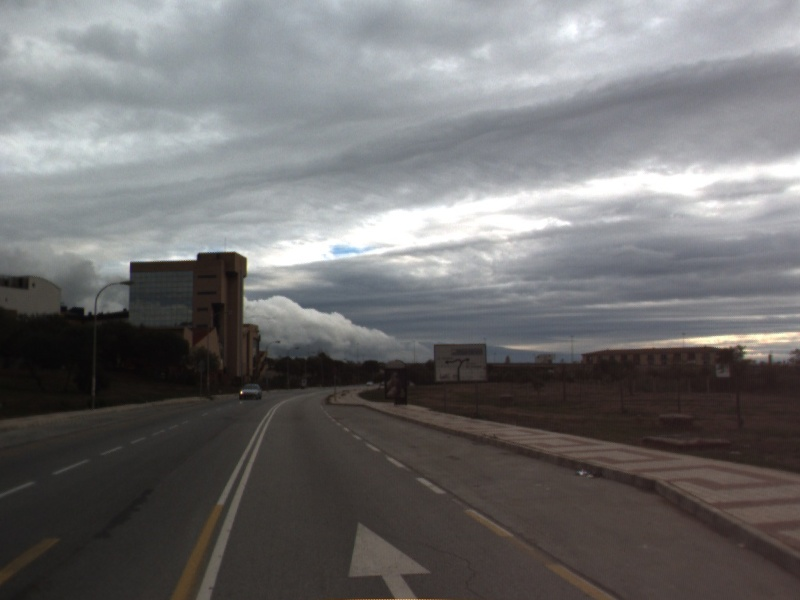STRAIGHT: (344, 516, 437, 600)
